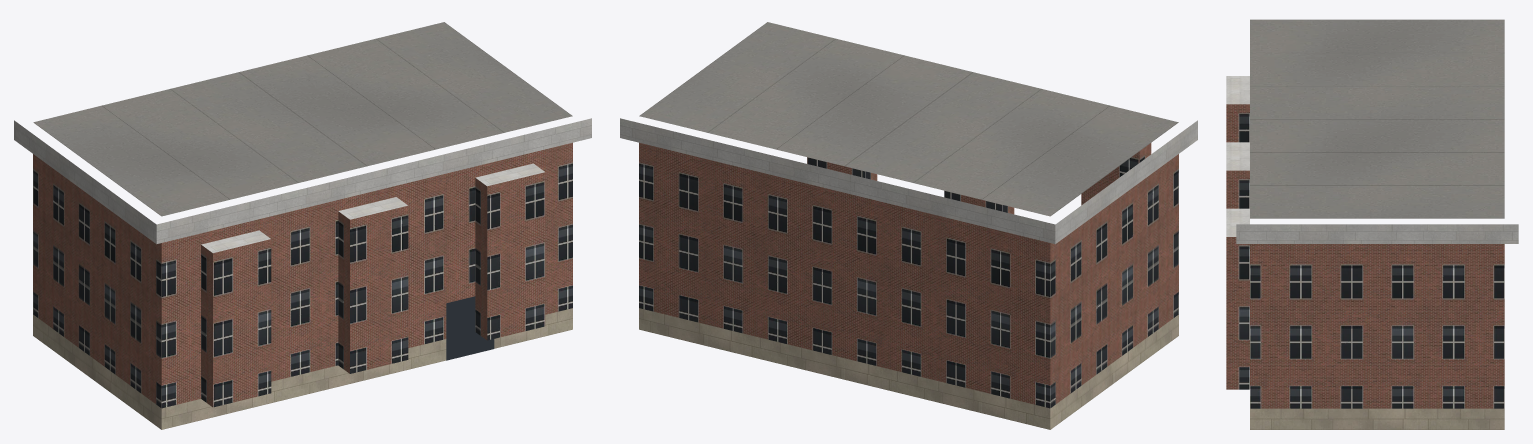
The model's file is dc_brick_row.glb.
The picture shows the model from 3 angles, left to right: view 1: azimuth 30°, elevation 25°; view 2: azimuth 150°, elevation 25°; view 3: azimuth 270°, elevation 25°; orthographic projection.
Visible parts, largest first — view 1: dc_brick_row; view 2: dc_brick_row; view 3: dc_brick_row.
Part boxes in pixels (x1=…): dc_brick_row: x1=14, y1=22, x2=591, y2=429; dc_brick_row: x1=620, y1=22, x2=1197, y2=429; dc_brick_row: x1=1226, y1=19, x2=1518, y2=429.
Size of the model in its own units: 25.4 by 11.9 by 14.9.
Materials: 5 (5 with a texture image).
